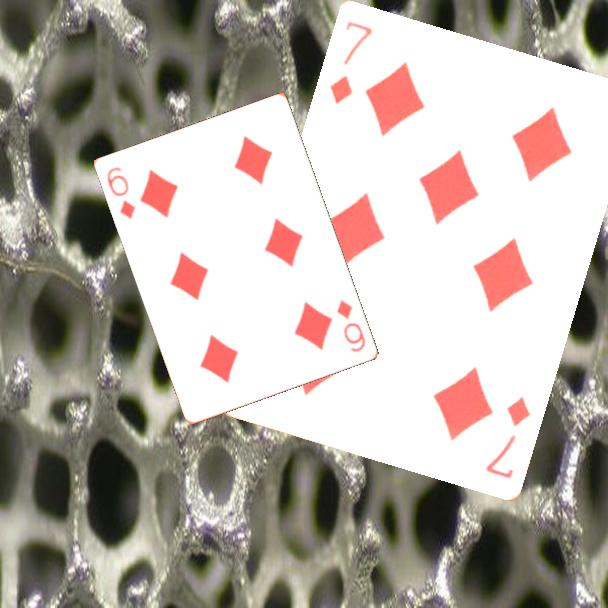d06: (334, 296, 369, 355), (104, 163, 139, 222)
d07: (482, 392, 533, 481), (326, 17, 375, 107)
